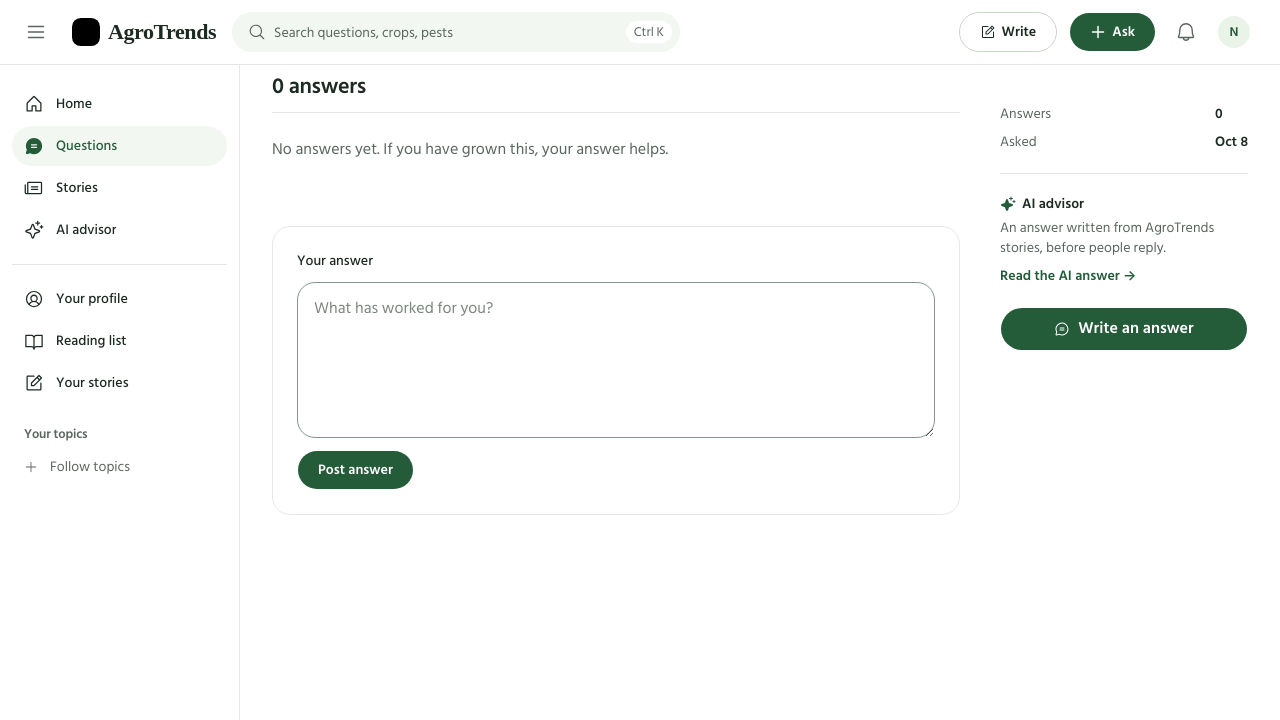
Scenario: answering posts to the question
(page scrolled)
In the text box labelled "Your answer": [616, 360] box top-left (297, 282), bottom-right (935, 438), type "Drain the cold water."
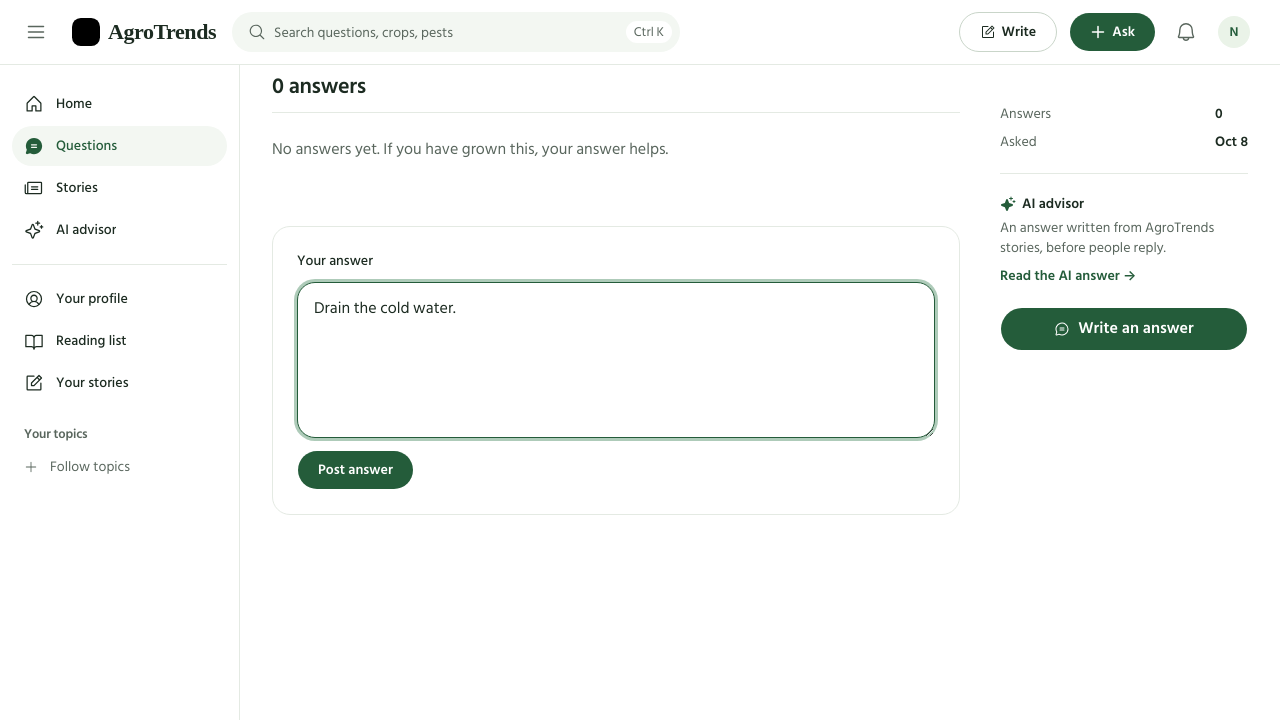
Click the button "Post answer": [355, 470] box top-left (297, 450), bottom-right (414, 490)
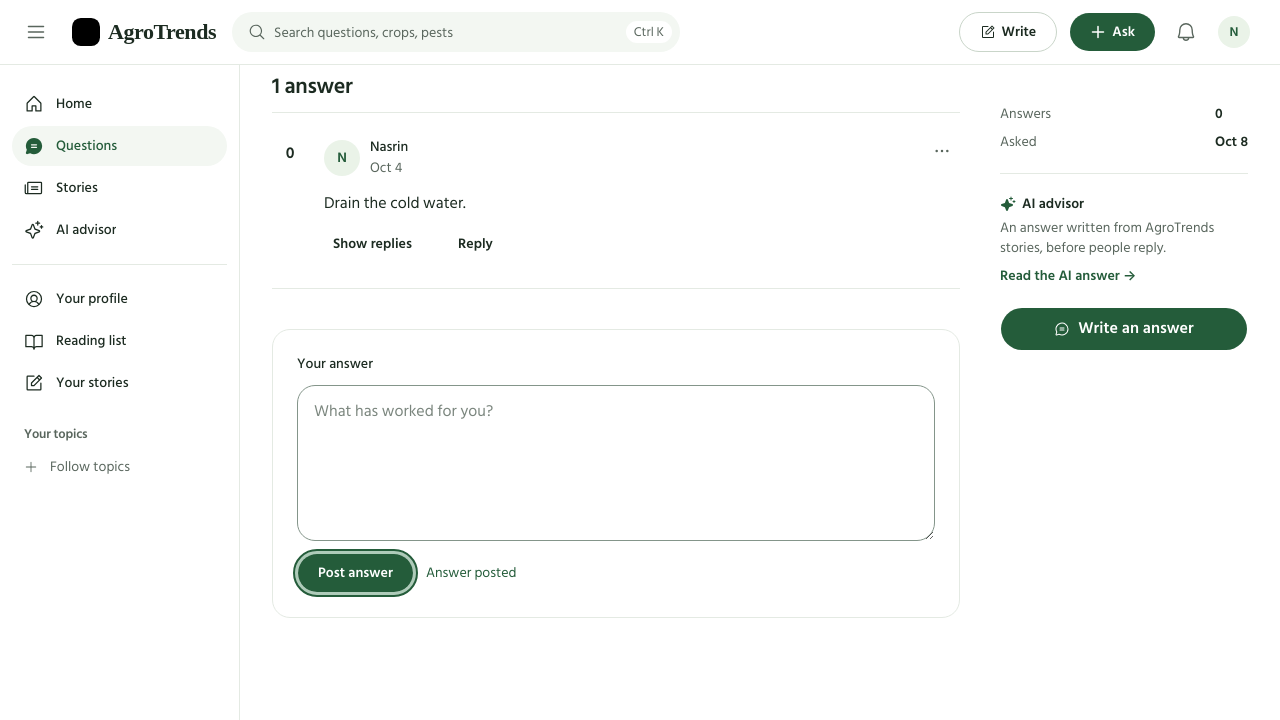
Expected: the text "Drain the cold water." is shown, top-left (324, 190), bottom-right (466, 216)
Click the button named "More actions": [942, 151] box top-left (924, 133), bottom-right (960, 169)
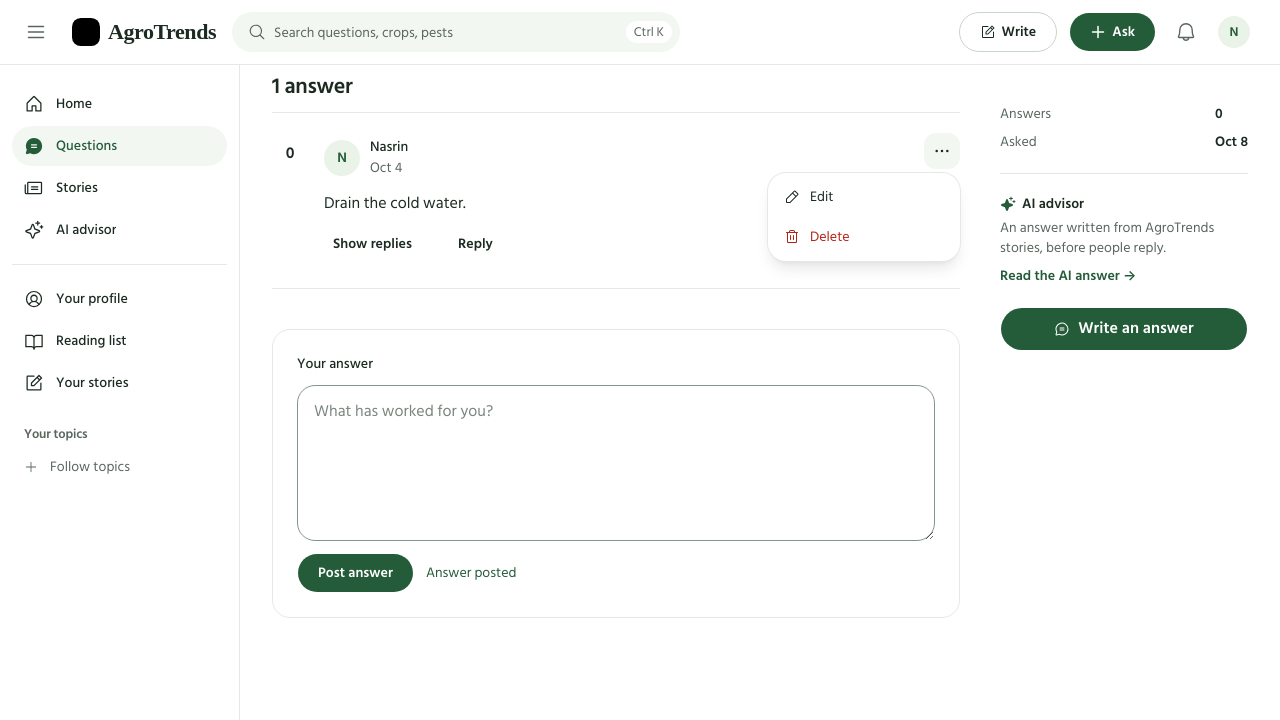
Expected: the menu item "Edit" is shown, top-left (784, 185), bottom-right (833, 208)
